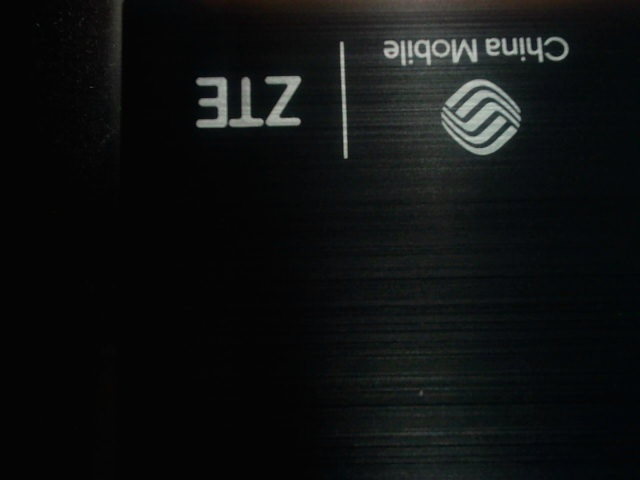AL_ZTEChinaMobile: (183, 25, 590, 174)
